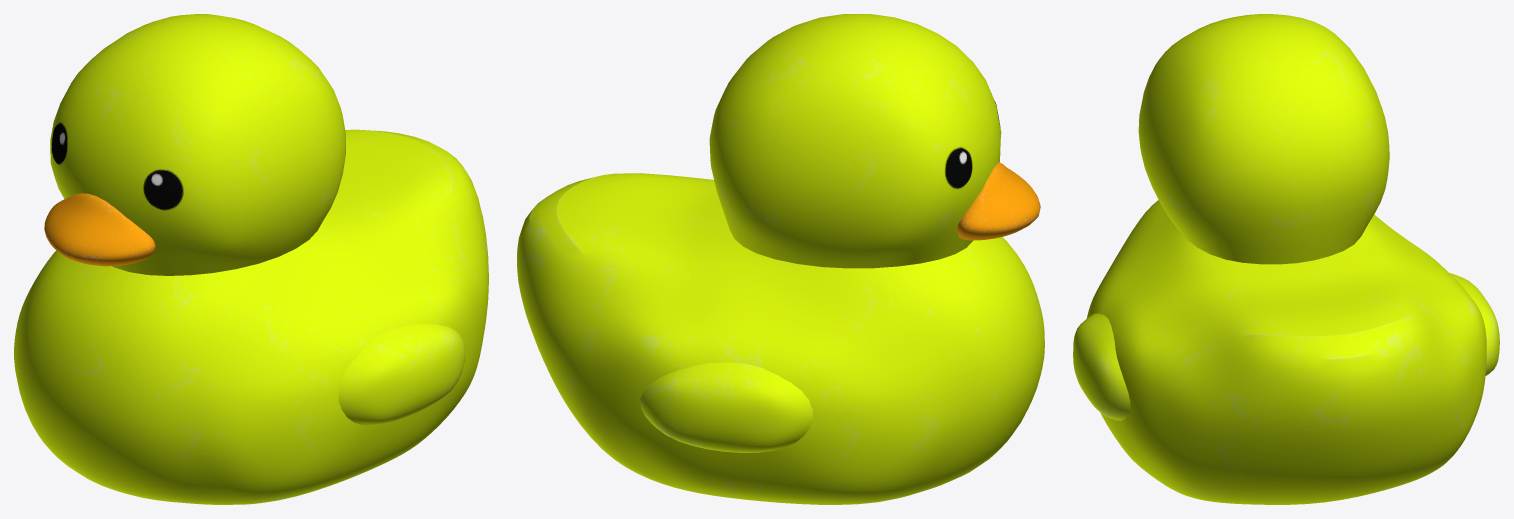
Rendered from simple_duck.glb.
3 renders of one model, left to right at view 1: azimuth 30°, elevation 25°; view 2: azimuth 150°, elevation 25°; view 3: azimuth 270°, elevation 25°, orthographic. The views are drawn at different scales.
Visible parts, largest first — view 1: Body; view 2: Body; view 3: Body.
Boxes of the visible parts, x1=… form: Body: x1=14, y1=14, x2=488, y2=504; Body: x1=517, y1=14, x2=1044, y2=504; Body: x1=1073, y1=14, x2=1499, y2=504.
Bounding box in the file's own units: 1.41 × 1.29 × 1.23.
2 materials, 2 textured.
